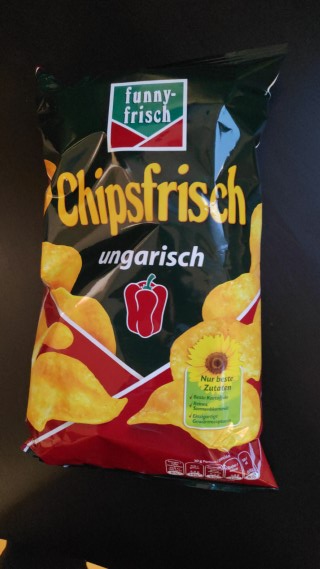chipsfrisch: (18, 40, 290, 493)
